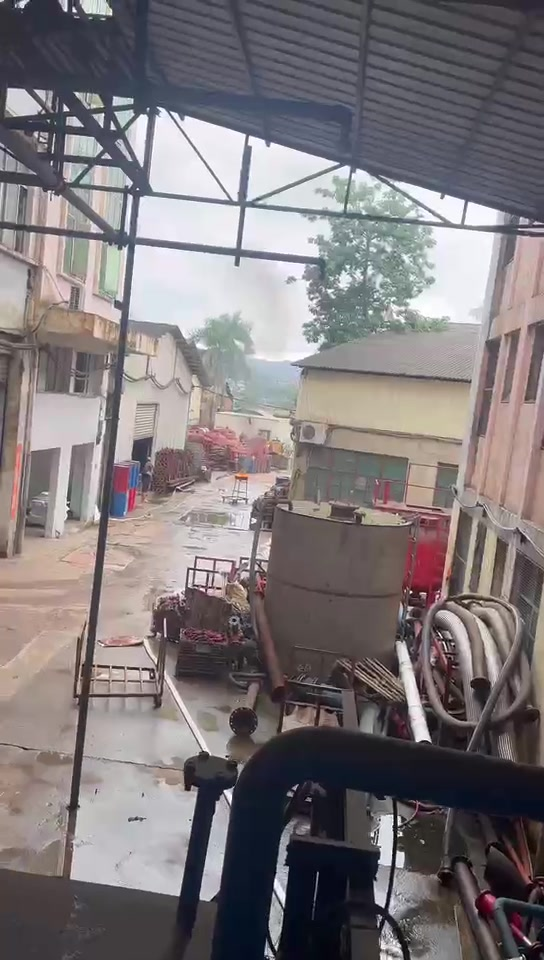fire: (234, 471, 247, 477)
